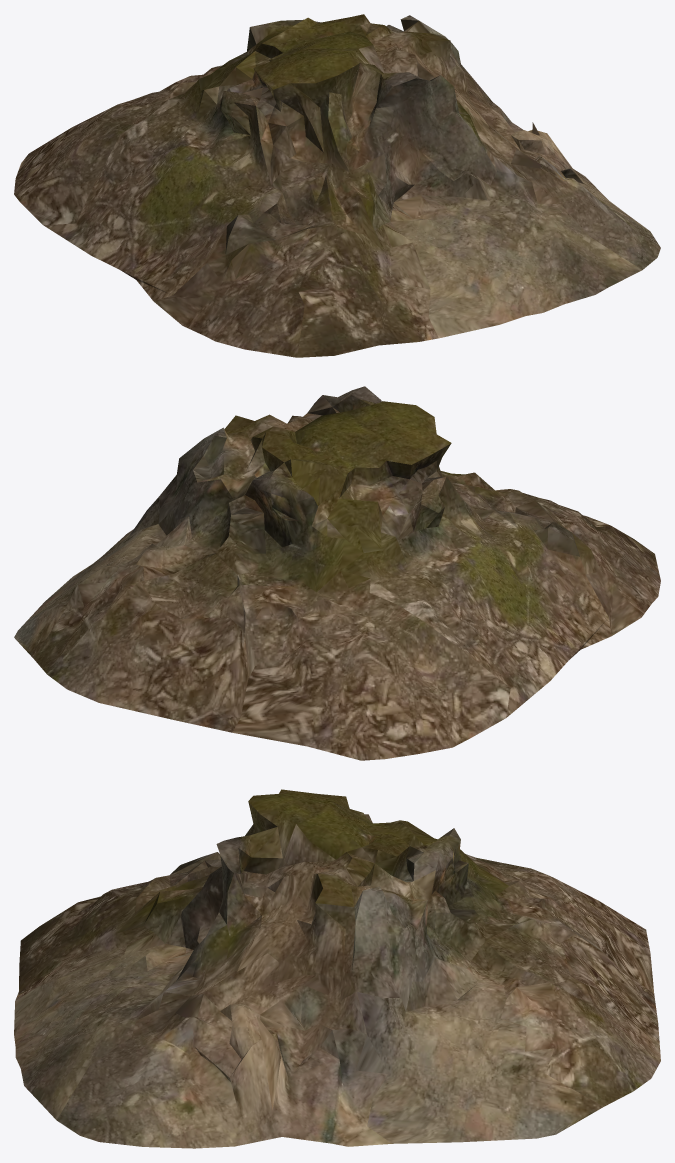
Rendered from stump.glb.
The picture shows the model from 3 angles, top to bottom: view 1: azimuth 30°, elevation 25°; view 2: azimuth 150°, elevation 25°; view 3: azimuth 270°, elevation 25°; orthographic projection. The views are drawn at different scales.
Visible parts, largest first — view 1: stump; view 2: stump; view 3: stump.
Part boxes in pixels (x1,y1,x2,y2): stump: [14, 14, 660, 357]; stump: [14, 386, 660, 760]; stump: [14, 789, 660, 1148].
Size of the model in its own units: 1.43 by 0.5749 by 1.59.
Materials: 1 (1 with a texture image).
